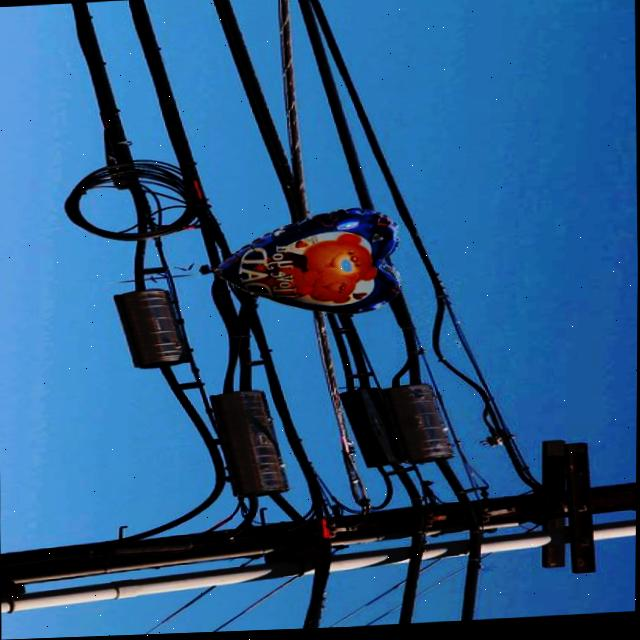obstruction: (229, 216, 380, 314)
poles: (2, 507, 469, 612), (480, 444, 637, 576), (329, 549, 411, 573)
wires: (72, 259, 637, 631), (54, 0, 431, 222)
